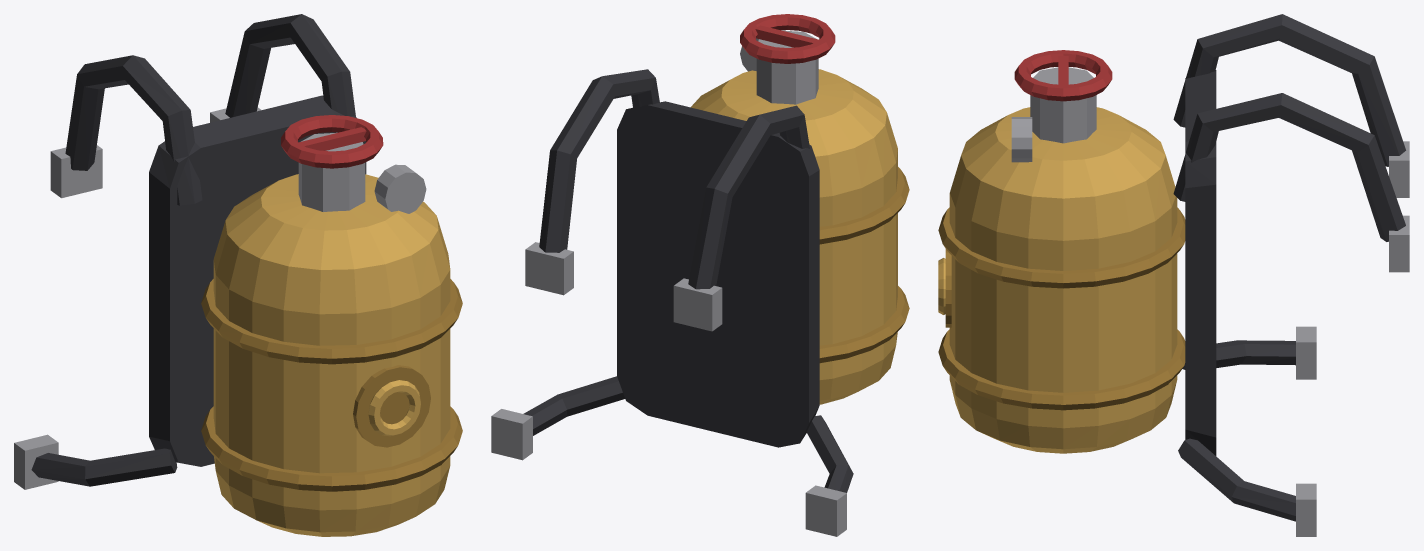
File: person_pack_vge_oxygen_pack.obj
3 renders of one model, left to right at view 1: azimuth 30°, elevation 25°; view 2: azimuth 150°, elevation 25°; view 3: azimuth 270°, elevation 25°, orthographic. The views are drawn at different scales.
Parts seen in each view (by area): view 1: person_pack_vge_oxygen_pack; view 2: person_pack_vge_oxygen_pack; view 3: person_pack_vge_oxygen_pack.
Part boxes in pixels (x1=…): person_pack_vge_oxygen_pack: x1=14, y1=14, x2=462, y2=536; person_pack_vge_oxygen_pack: x1=491, y1=14, x2=909, y2=536; person_pack_vge_oxygen_pack: x1=938, y1=14, x2=1409, y2=536.
Bounding box in the file's own units: 0.396 × 0.4238 × 0.4562.
